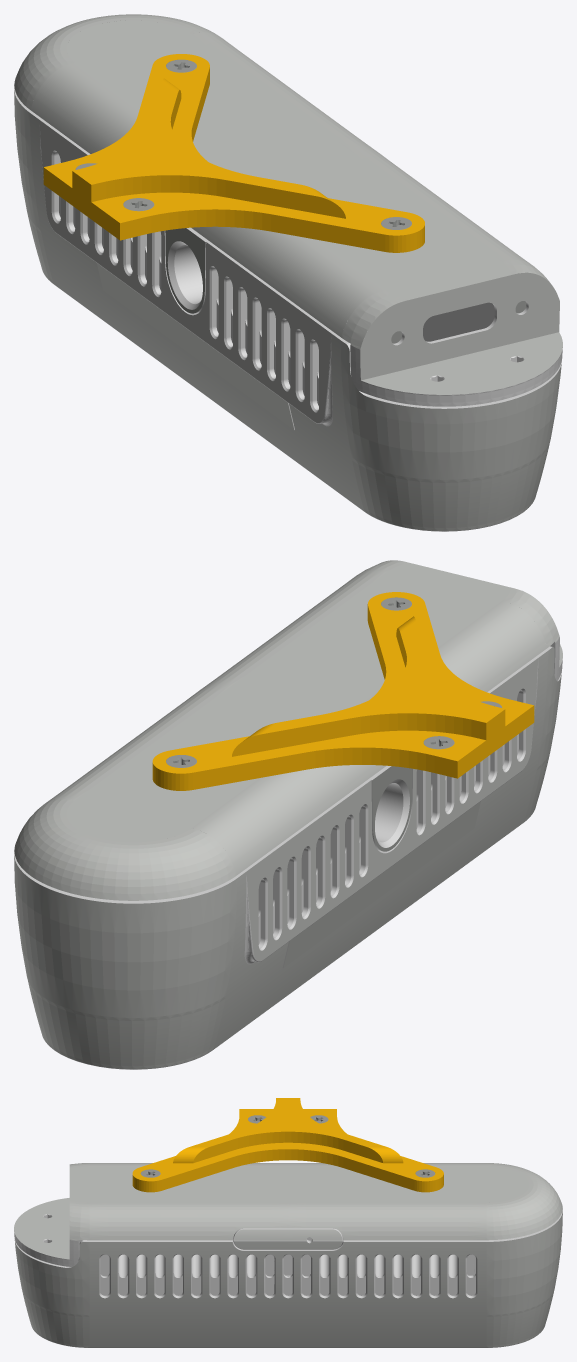
File: camera.dae
3 renders of one model, top to bottom at view 1: azimuth 30°, elevation 25°; view 2: azimuth 150°, elevation 25°; view 3: azimuth 270°, elevation 25°, orthographic. The views are drawn at different scales.
Visible parts, largest first — view 1: 5b3aea852d36660f8dc55aaa.1396; view 2: 5b3aea852d36660f8dc55aaa.1396; view 3: 5b3aea852d36660f8dc55aaa.1396.
Boxes of the visible parts, x1,y1,x2,y2 form: 5b3aea852d36660f8dc55aaa.1396: (14, 14, 562, 531); 5b3aea852d36660f8dc55aaa.1396: (14, 560, 562, 1069); 5b3aea852d36660f8dc55aaa.1396: (14, 1098, 562, 1347).
Bounding box in the file's own units: 0.0375 × 0.0899 × 0.0291.
